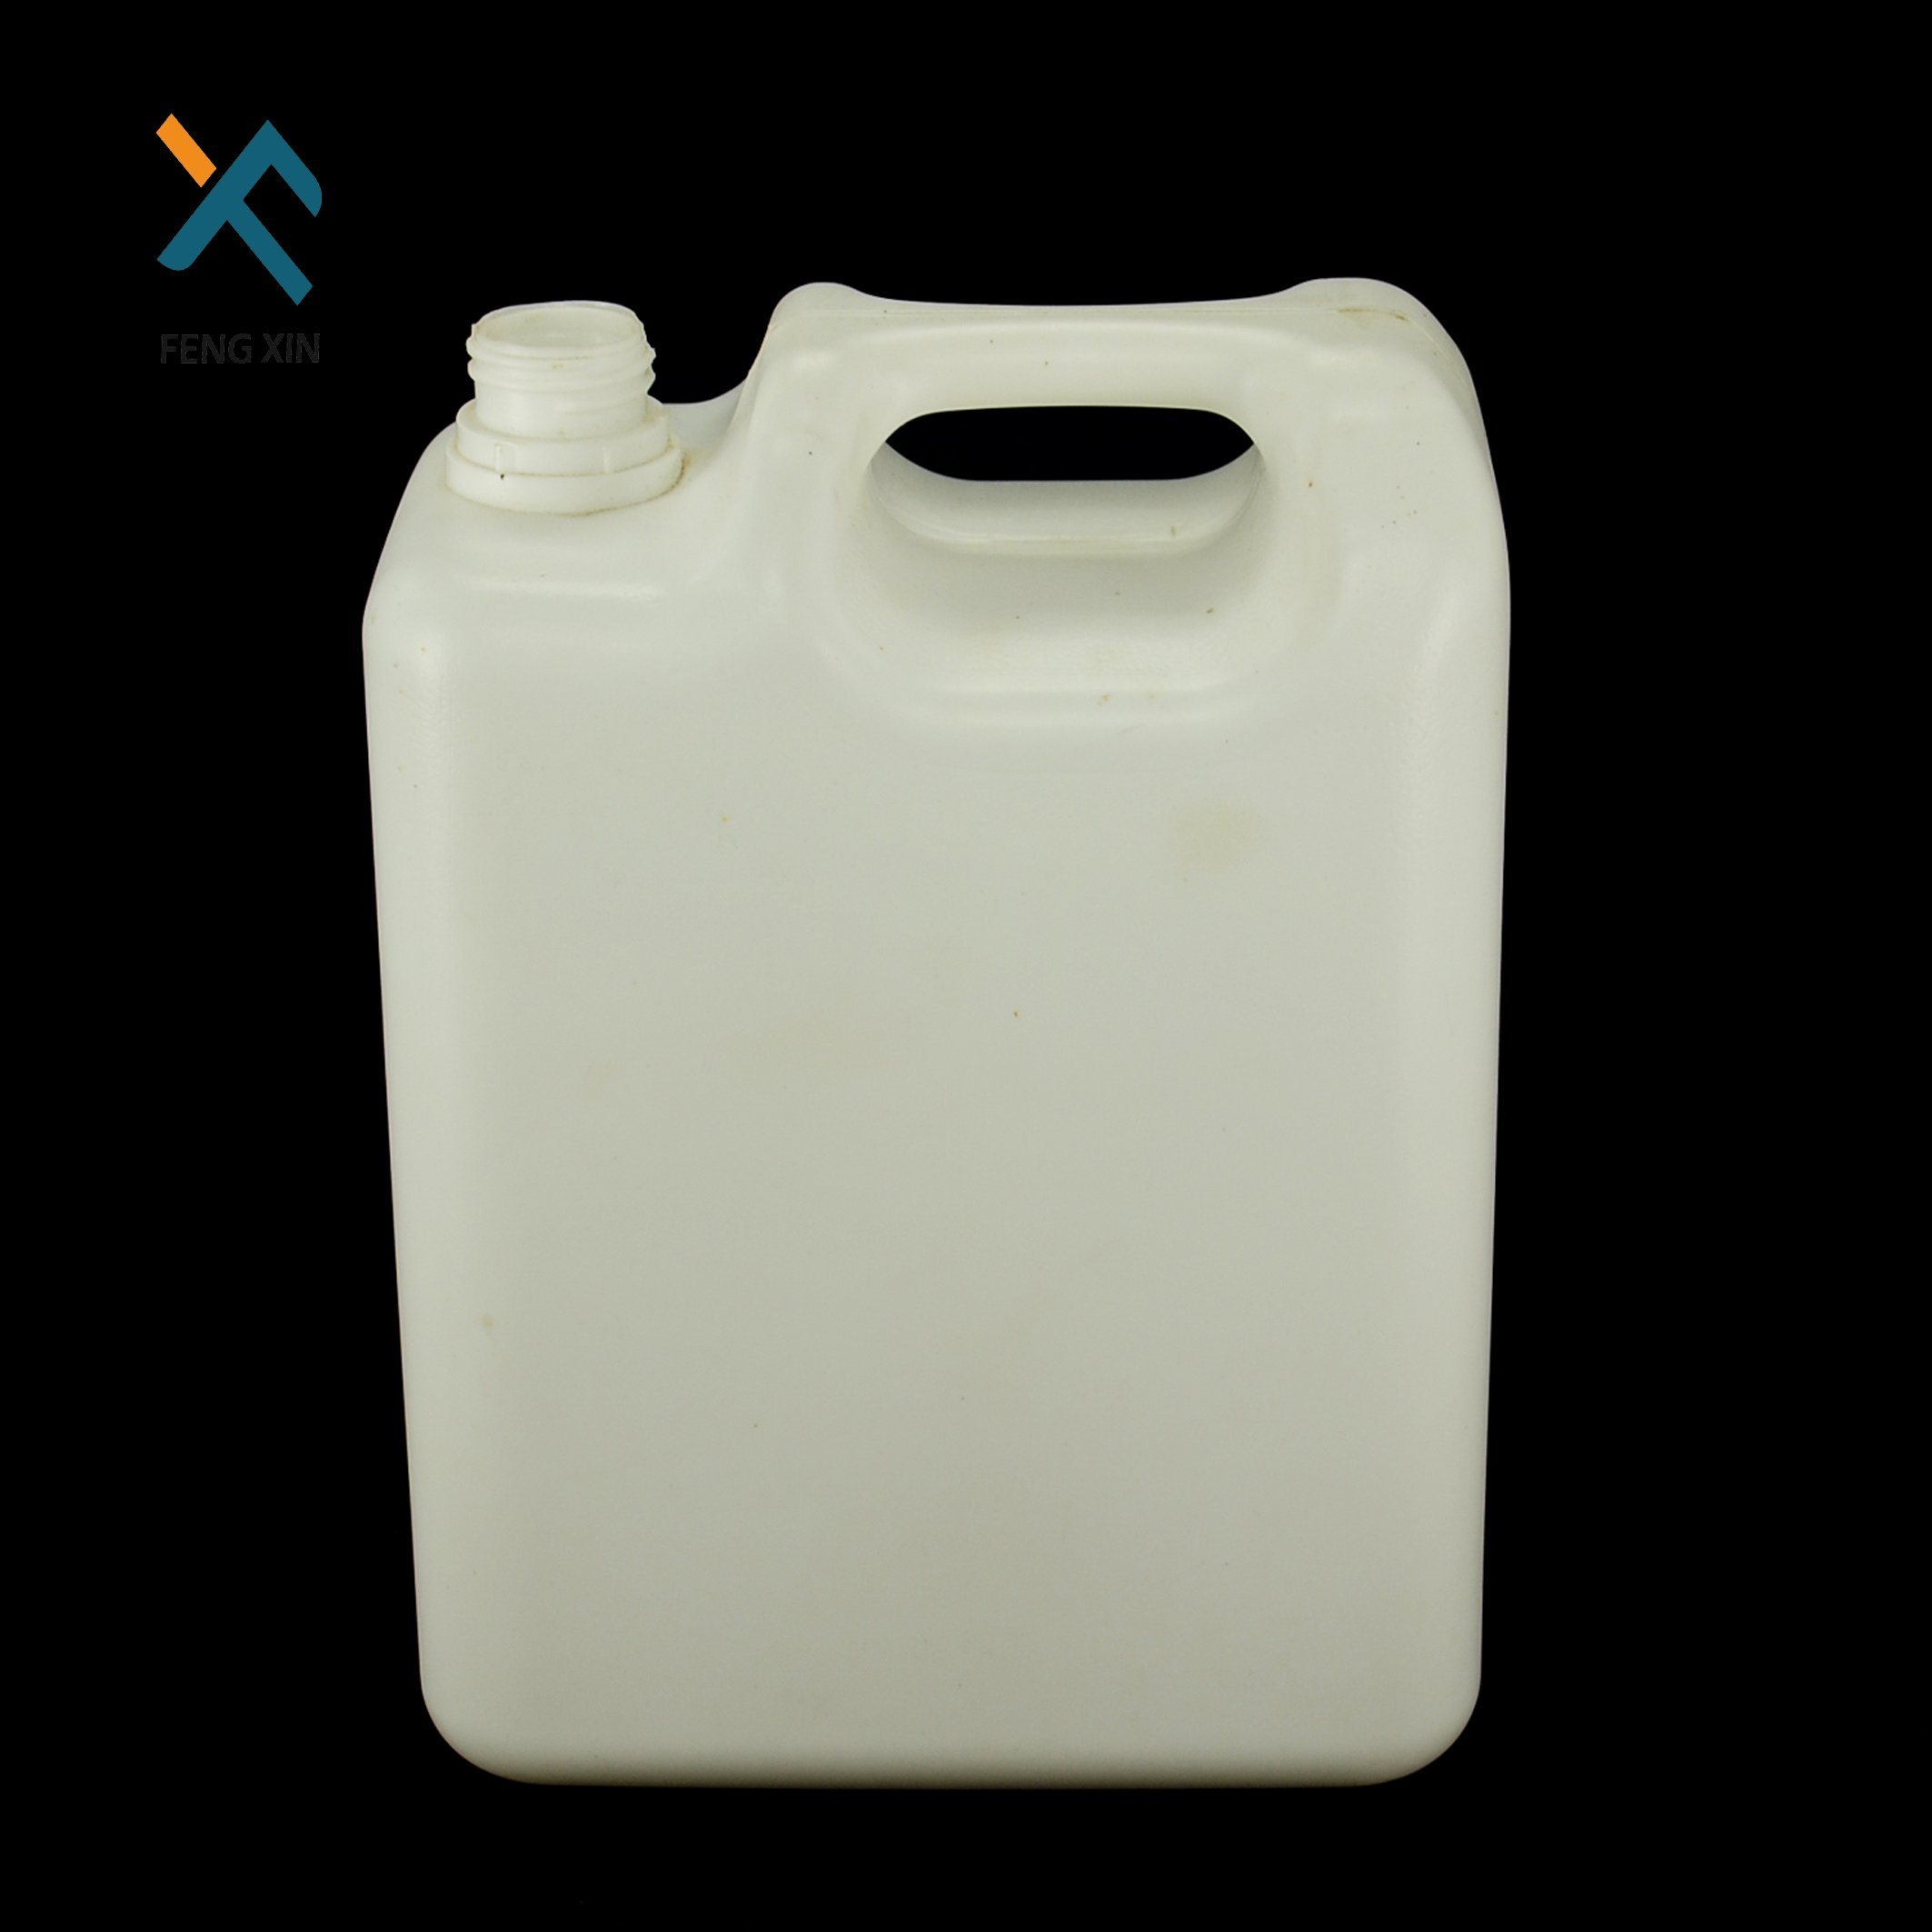plastic: (357, 274, 1520, 1798)
